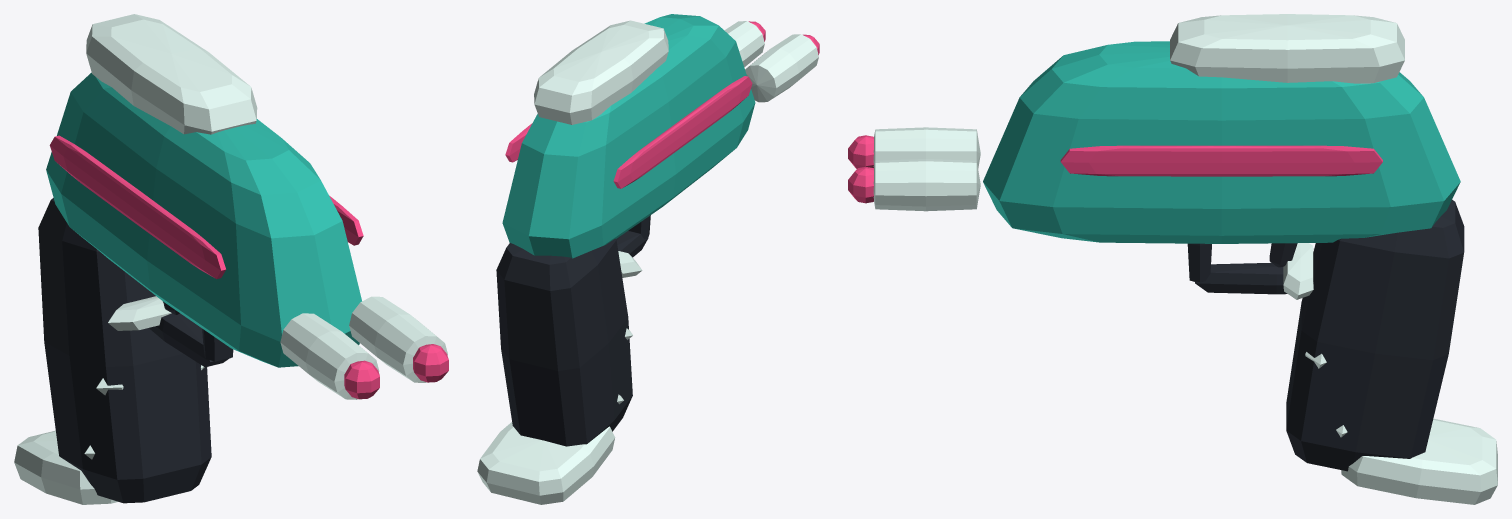
The model's file is g-pistol-4.glb.
The picture shows the model from 3 angles, left to right: view 1: azimuth 30°, elevation 25°; view 2: azimuth 150°, elevation 25°; view 3: azimuth 270°, elevation 25°; orthographic projection. The views are drawn at different scales.
Visible parts, largest first — view 1: gun; view 2: gun; view 3: gun.
Boxes of the visible parts, <box> form: gun: <box>14,14,448,504</box>; gun: <box>477,14,819,504</box>; gun: <box>848,14,1497,504</box>.
Bounding box in the file's own units: 0.144 × 0.4632 × 0.5932.
